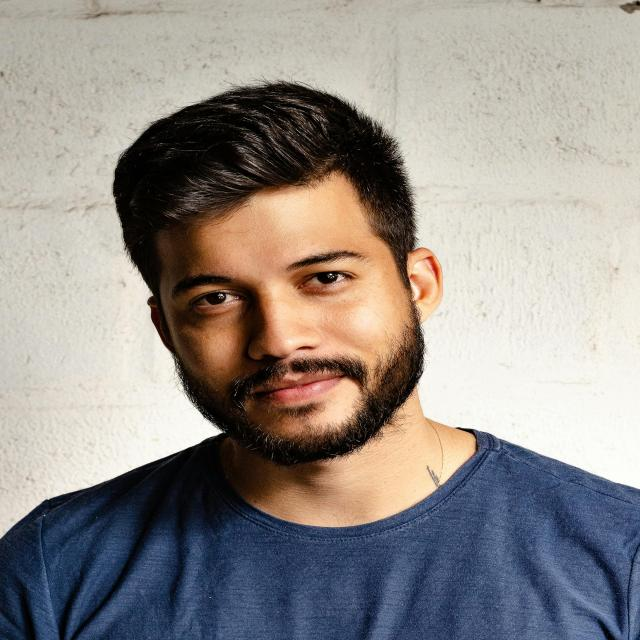human: (80, 89, 574, 640)
